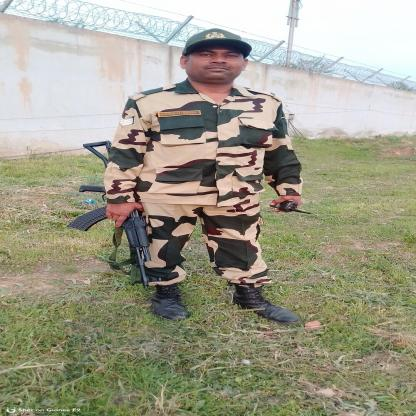rifle: (64, 140, 156, 290)
